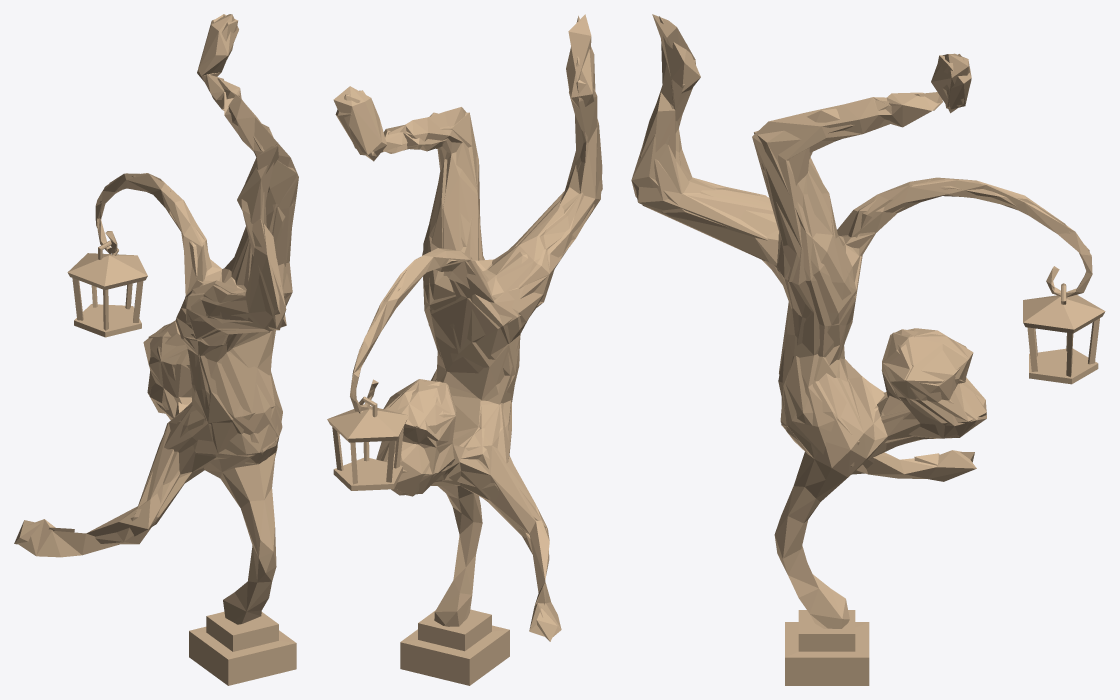
The model's file is Monkey-Acrobat.baked.fbx.
3 views of the same model, side by side, from view 1: azimuth 30°, elevation 25°; view 2: azimuth 150°, elevation 25°; view 3: azimuth 270°, elevation 25° (orthographic). The views are drawn at different scales.
Visible parts, largest first — view 1: Cylinder; view 2: Cylinder; view 3: Cylinder.
Boxes of the visible parts, <box> form: Cylinder: <box>14,14,298,685</box>; Cylinder: <box>327,14,602,685</box>; Cylinder: <box>631,14,1105,685</box>.
Size of the model in its own units: 1496 by 3933 by 2647.
